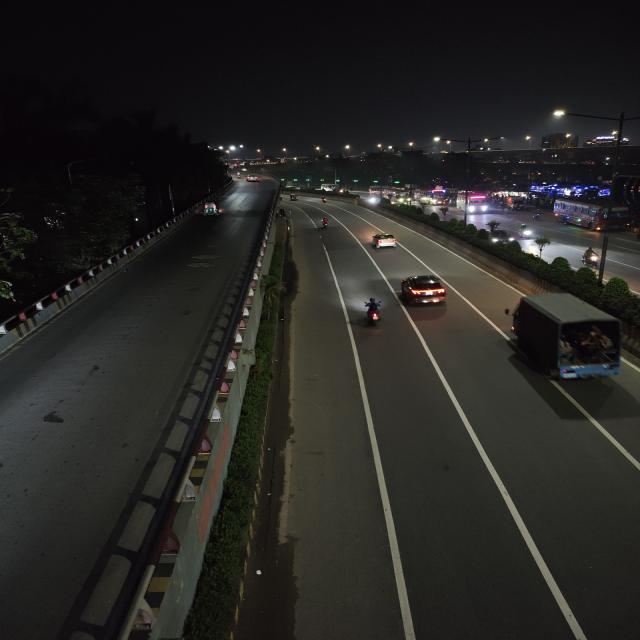bus: (552, 197, 632, 233), (459, 192, 491, 214), (420, 190, 455, 207), (384, 187, 410, 205)
car: (396, 272, 449, 308), (369, 230, 399, 252), (245, 174, 259, 183)
cng: (202, 200, 222, 217)
motorcycle: (358, 296, 389, 330), (579, 246, 604, 268), (518, 222, 533, 237), (316, 216, 331, 230), (319, 195, 330, 205), (532, 210, 542, 221)
pickup_van: (501, 290, 632, 389)
